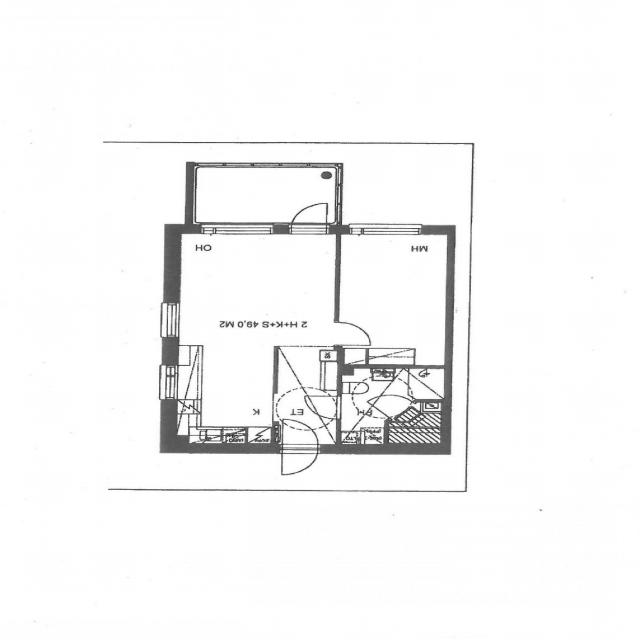door: (366, 385, 415, 419), (282, 418, 318, 454), (292, 198, 327, 234), (282, 444, 318, 478), (303, 396, 342, 419), (335, 322, 373, 345)
